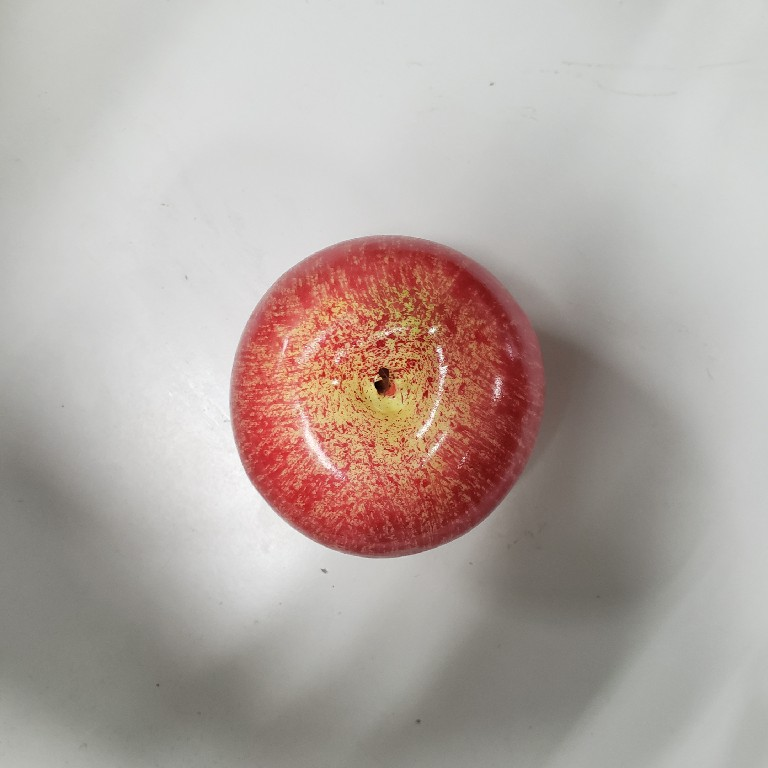fruit_apple: (221, 226, 552, 564)
